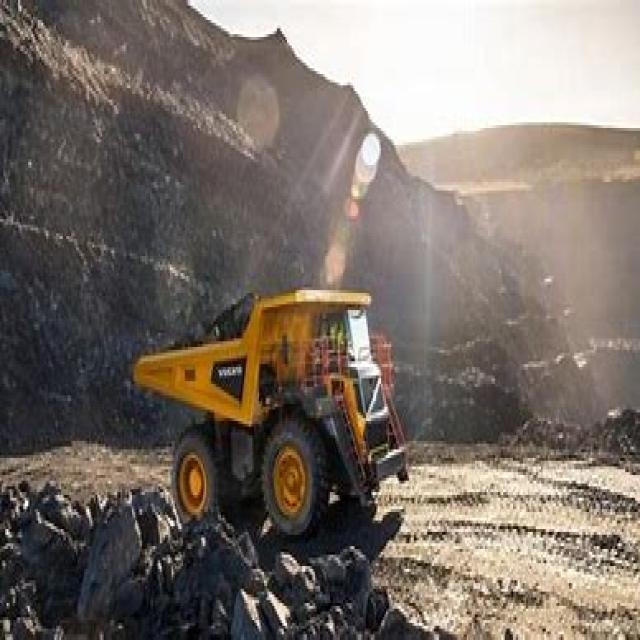dump_truck: (140, 276, 418, 540)
